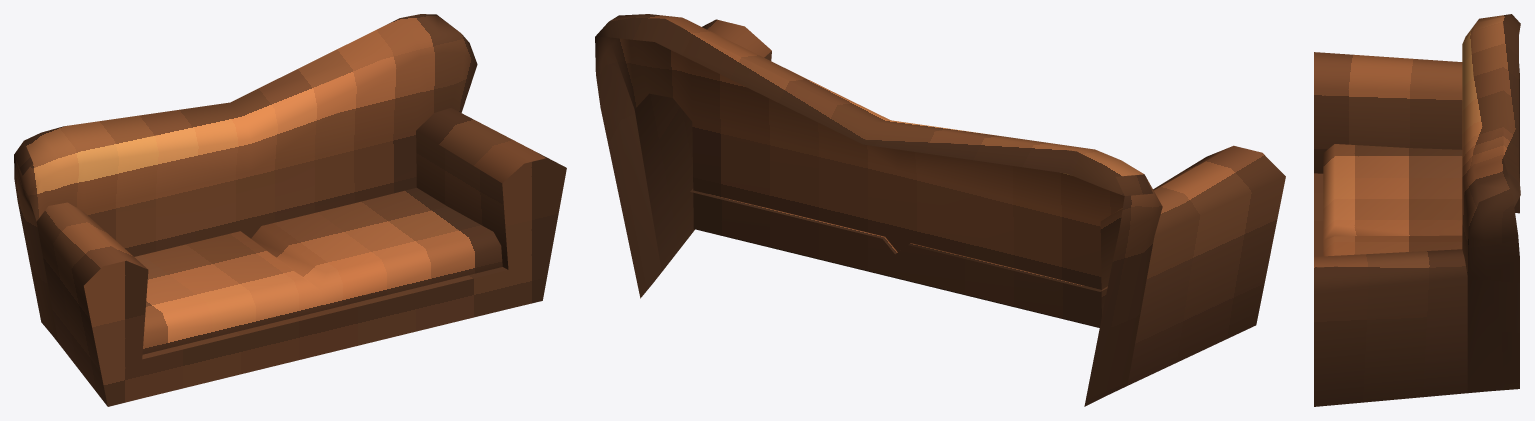
Rendered from SofaExport.fbx.
The picture shows the model from 3 angles, left to right: view 1: azimuth 30°, elevation 25°; view 2: azimuth 150°, elevation 25°; view 3: azimuth 270°, elevation 25°; orthographic projection. The views are drawn at different scales.
Visible parts, largest first — view 1: polymsh11; view 2: polymsh11; view 3: polymsh11.
Boxes of the visible parts, x1,y1,x2,y2 form: polymsh11: [14, 14, 566, 406]; polymsh11: [595, 14, 1285, 406]; polymsh11: [1314, 14, 1520, 406].
Size of the model in its own units: 5.42 by 2.41 by 2.02.
